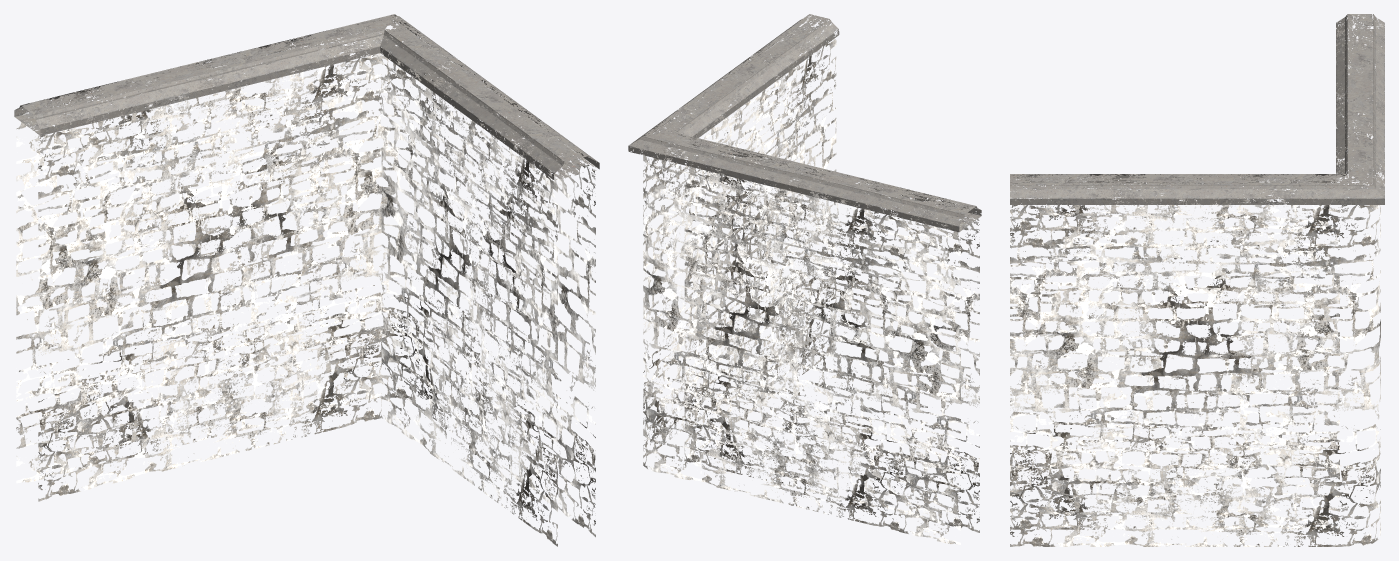
The model's file is SM_porch_parapet_02.fbx.
3 views of the same model, side by side, from view 1: azimuth 30°, elevation 25°; view 2: azimuth 150°, elevation 25°; view 3: azimuth 270°, elevation 25° (orthographic). The views are drawn at different scales.
Parts seen in each view (by area): view 1: SM_porch_parapet_02_LOD0; view 2: SM_porch_parapet_02_LOD0; view 3: SM_porch_parapet_02_LOD0.
Part boxes in pixels (x1=…): SM_porch_parapet_02_LOD0: x1=14, y1=14, x2=599, y2=546; SM_porch_parapet_02_LOD0: x1=628, y1=14, x2=981, y2=544; SM_porch_parapet_02_LOD0: x1=1010, y1=14, x2=1384, y2=546.
Bounding box in the file's own units: 252 × 227 × 240.
Materials: 2 (2 with a texture image).
